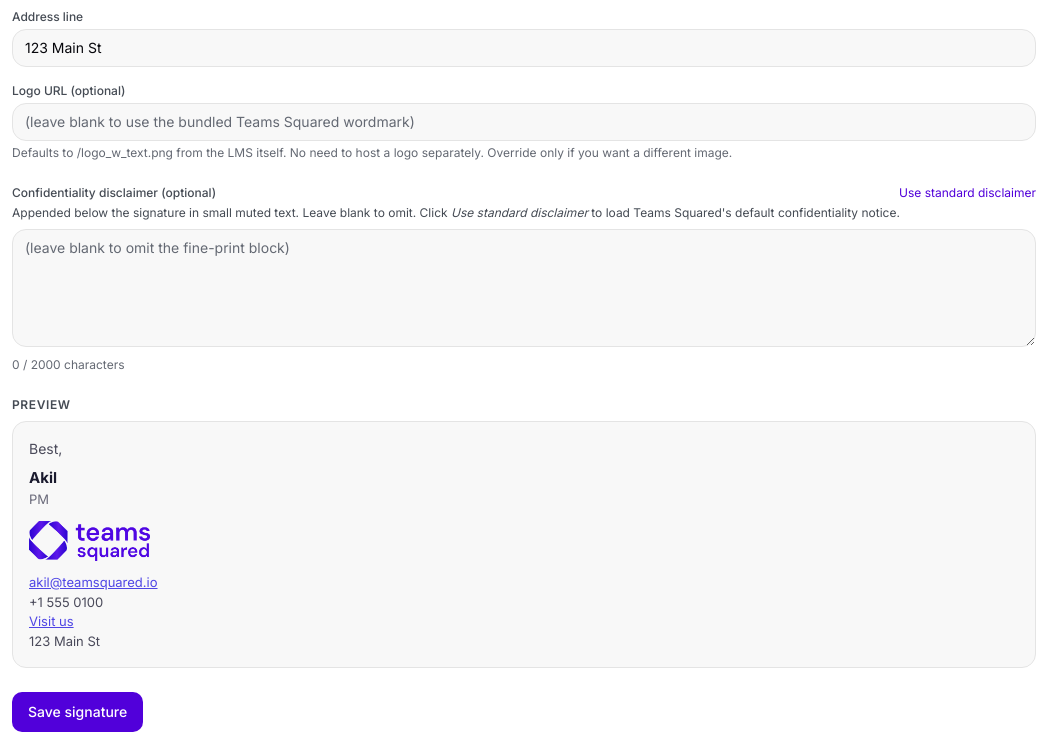
Test case: EmailSignatureForm — interactions › surfaces the server error message on save failure
(page scrolled)
Click the button "Save signature".
click(78, 712)  # box top-left (12, 692), bottom-right (143, 731)
(page scrolled)
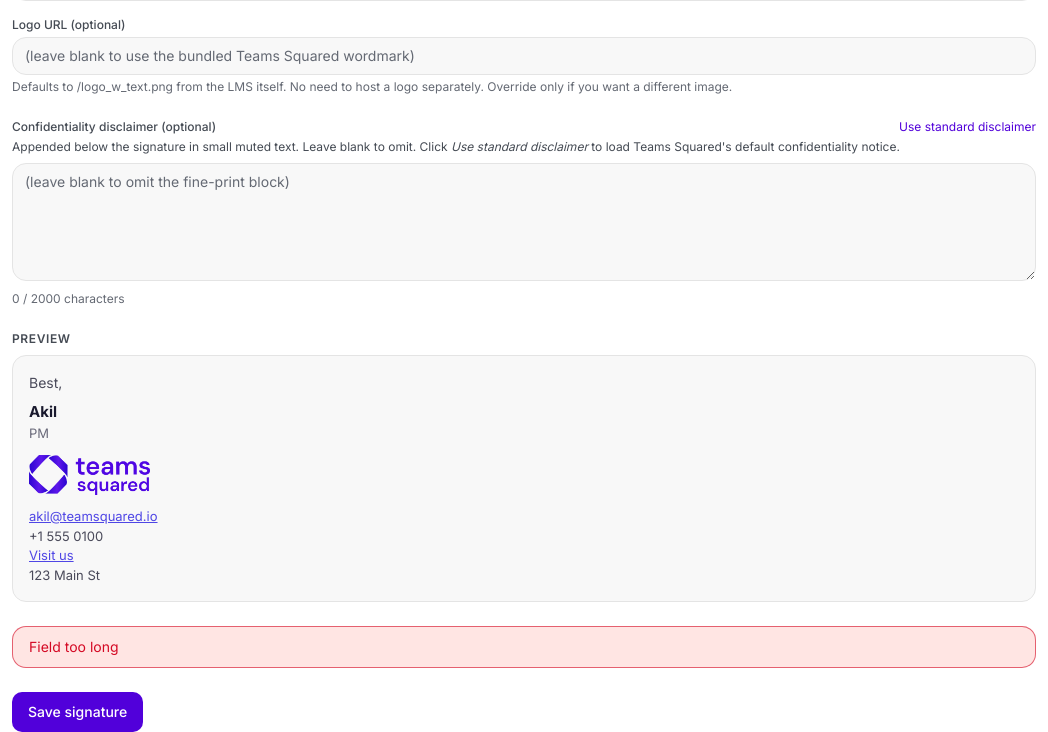
Check: the text "Field too long" is shown, box top-left (12, 626), bottom-right (1036, 668)
